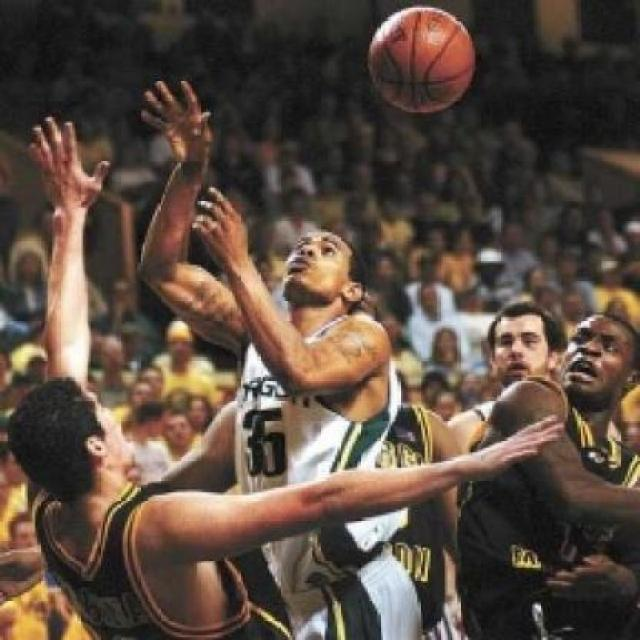basketball: (354, 0, 486, 124)
